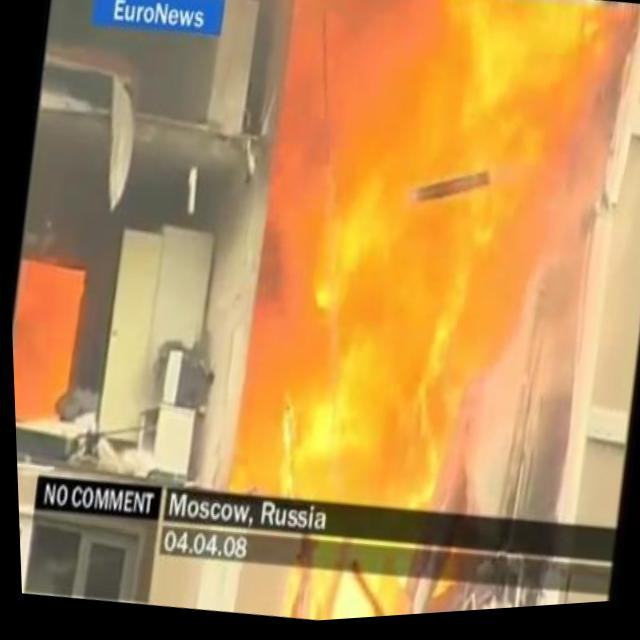fire: (209, 0, 640, 553), (7, 251, 85, 433)
